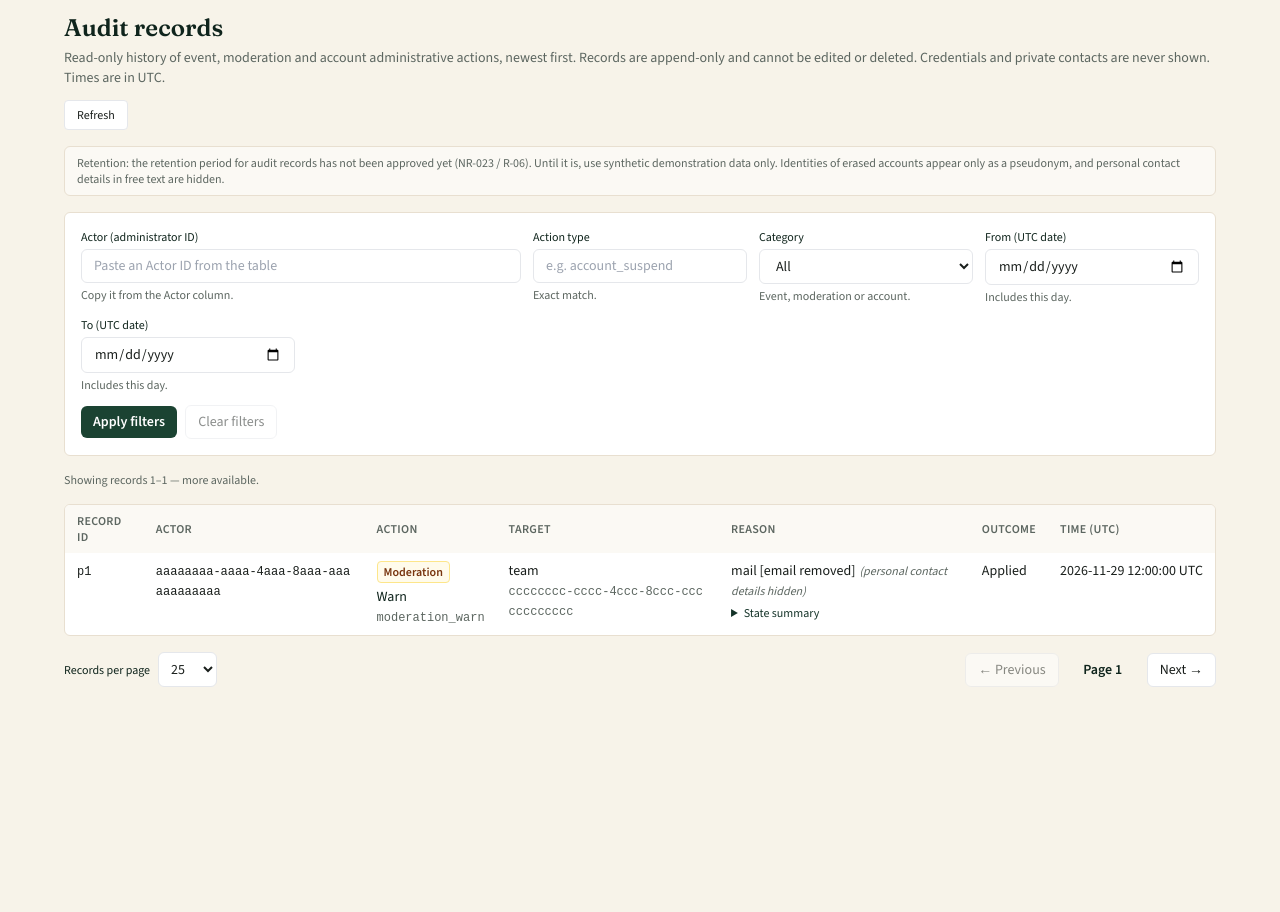
Test: AuditRecordsPage retention and pseudonymization (US-028 / #263) › hides contact details on every page, including pages reached by Next and Previous
The width and height of the screenshot is (1280, 912).
Click the button with test id "audit-page-next" at (1181, 670), box [1147,652,1216,686]
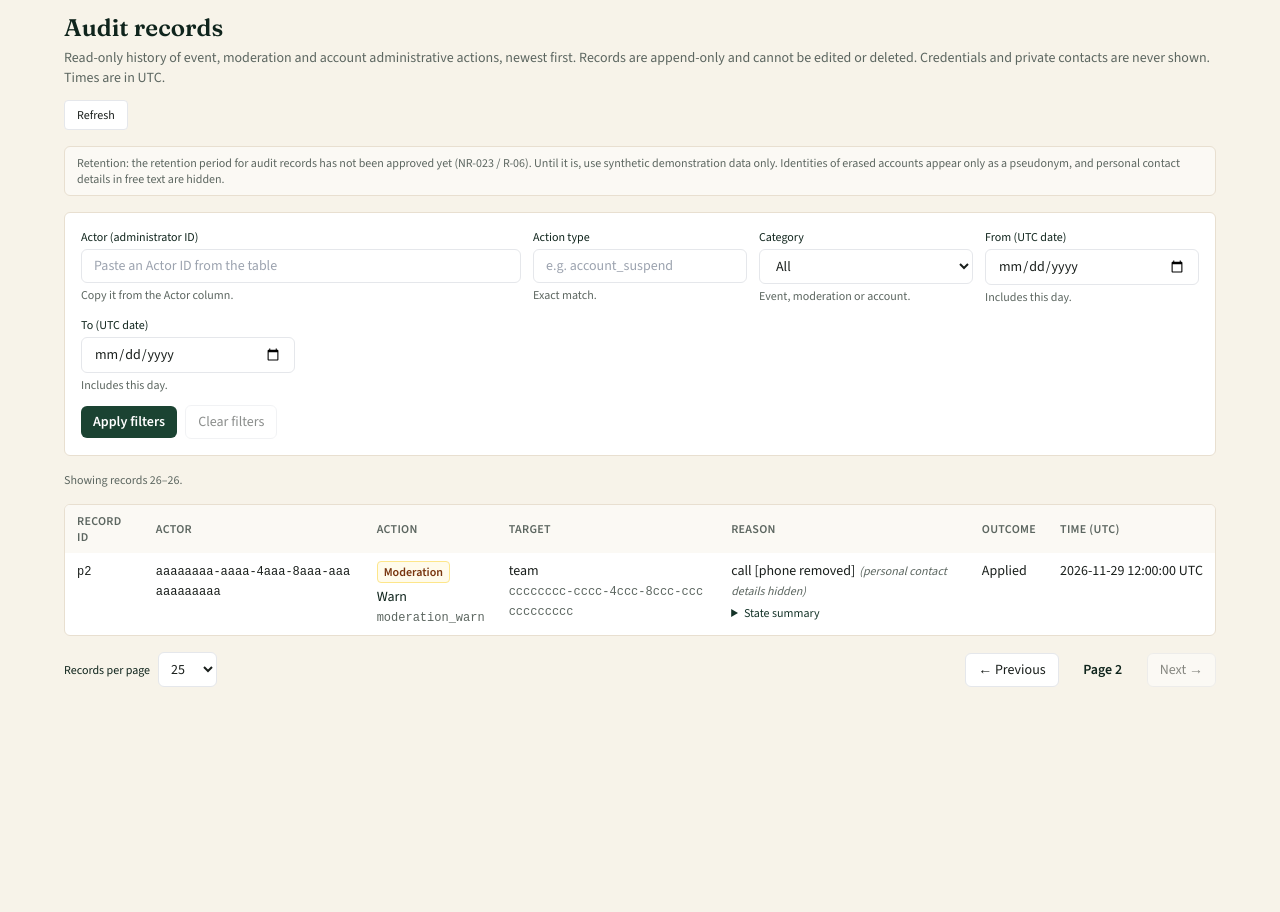
Check: the row with test id "audit-row-p2" shows "[phone removed]", box [731,561,855,580]
Check: the row with test id "audit-row-p2" is shown, box [65,553,1215,635]
Click the button with test id "audit-page-prev" at (1012, 670), box [965,652,1059,686]
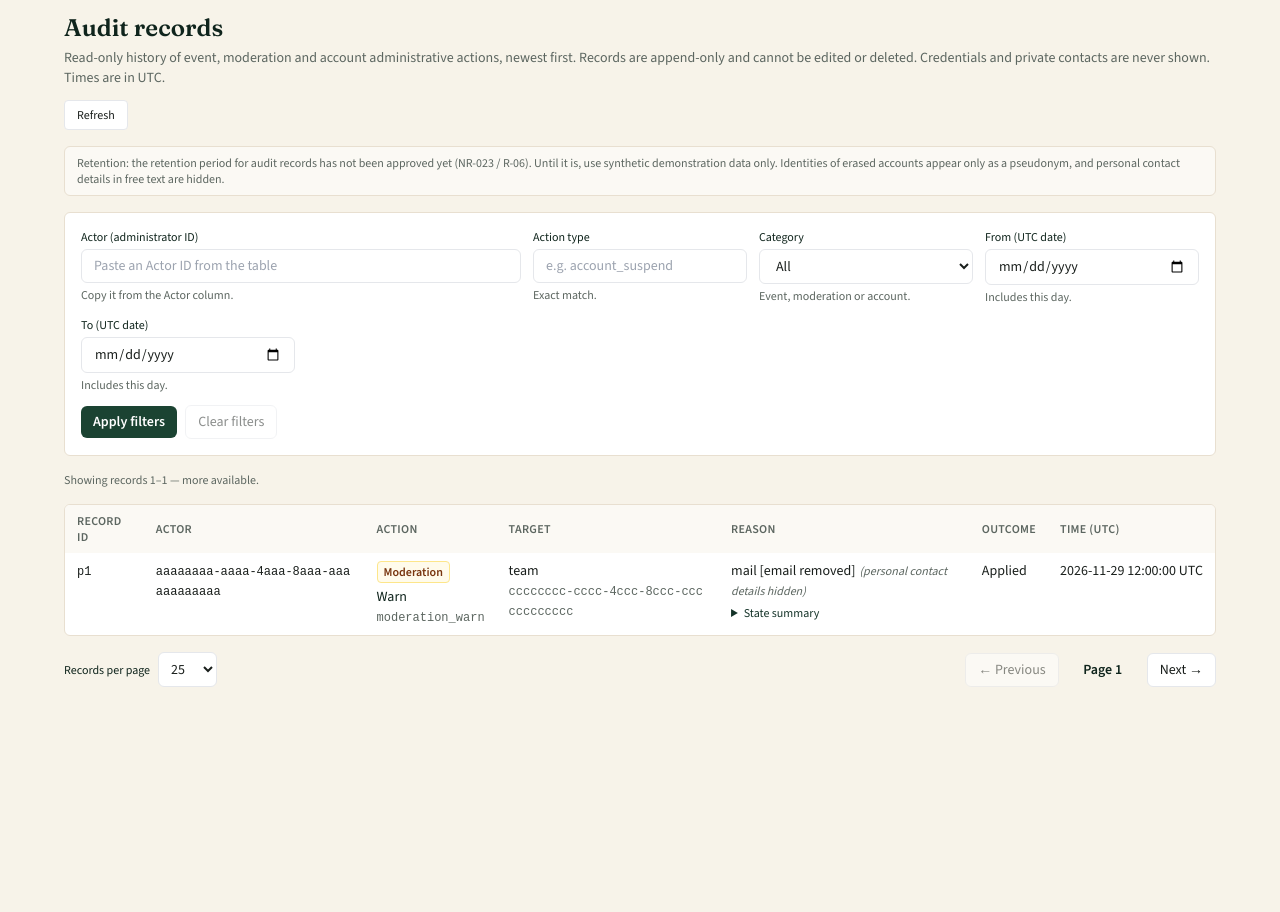
Check: the row with test id "audit-row-p1" shows "[email removed]", box [731,561,855,580]
Check: the row with test id "audit-row-p1" is shown, box [65,553,1215,635]
